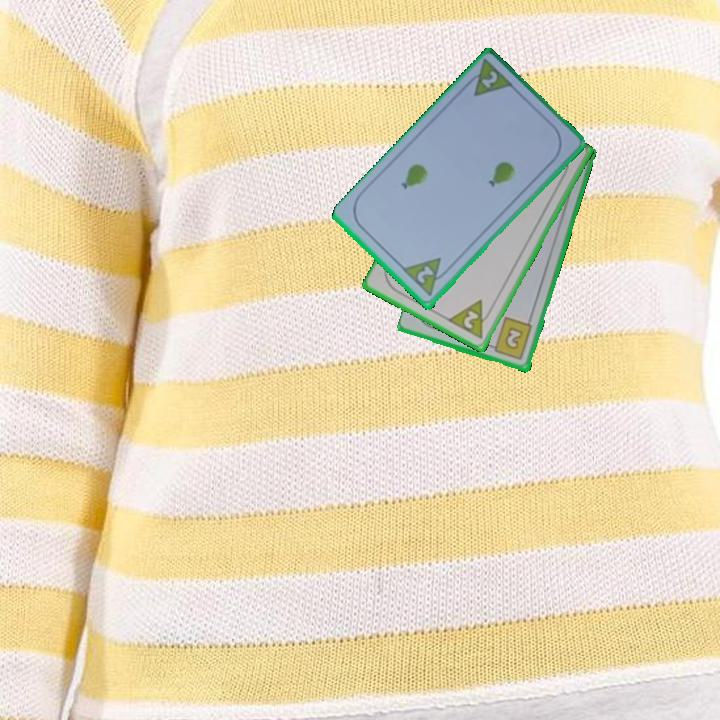2b: (485, 314, 535, 363)
2p: (400, 254, 453, 300), (445, 296, 497, 342), (478, 67, 501, 92)
